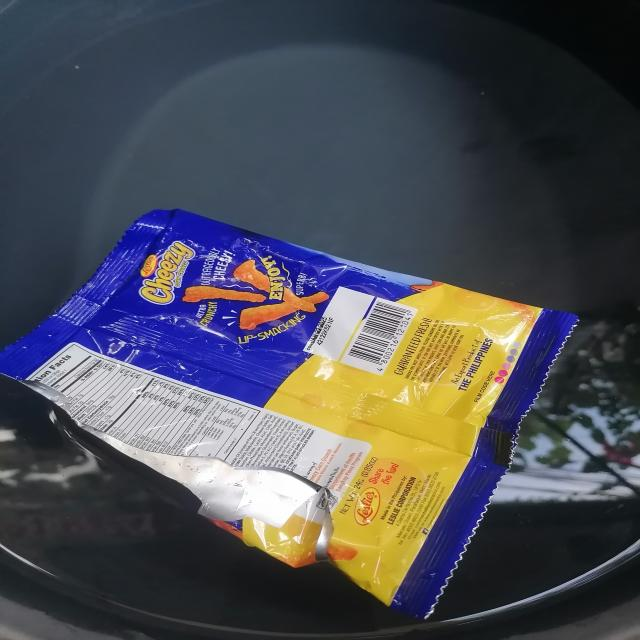Plastic Wrapper: (0, 190, 602, 628)
